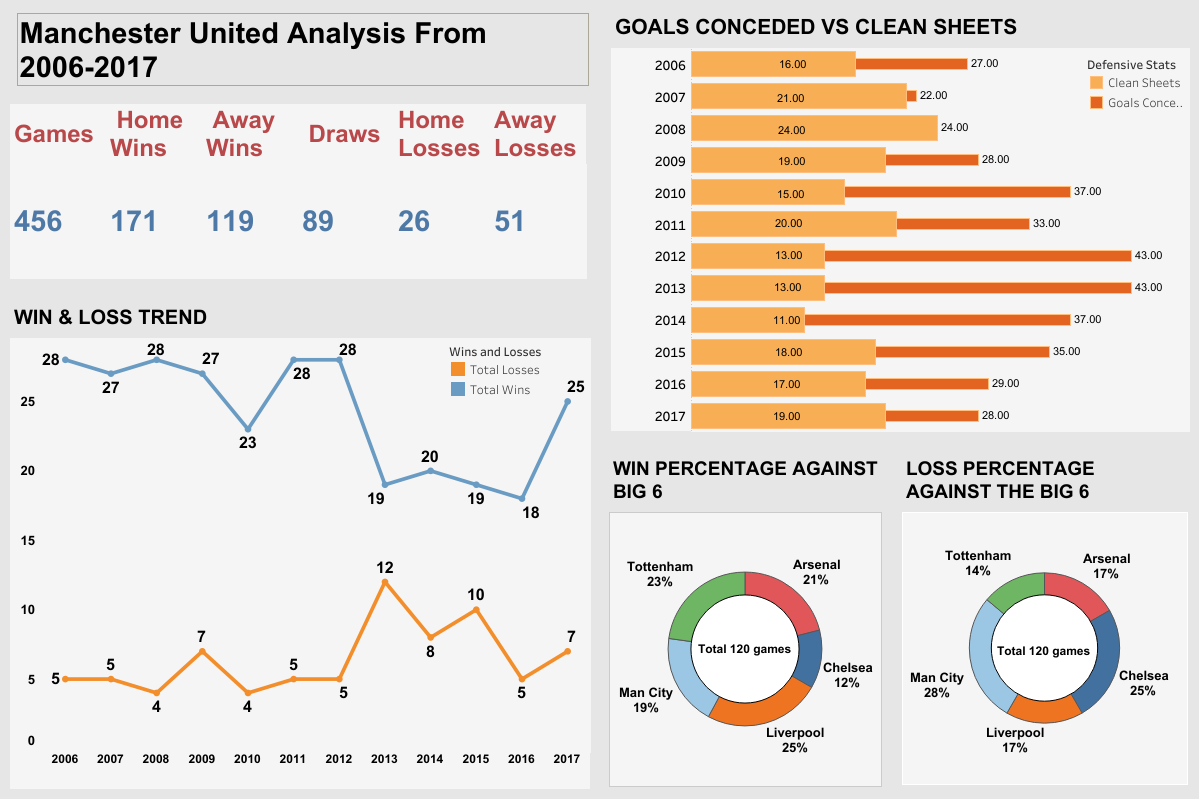

The dashboard page shown, as its layout file describes it:
{"tool":"tableau","page":{"name":"Dashboard 1","canvas":[1200,800],"ordinal":0},"visuals":[{"type":"worksheet","title":"Sheet 20","mark":"Bar","rows":["season"],"cols":["goals_conceded","clean_sheet"],"box":[603,0,594,439]},{"type":"title","box":[9,5,588,89]},{"type":"legend","title":"Sheet 20","param":"[federated.0bez2ue1wrdpr91e64y4817orz79].[:Measure Names]","box":[1082,49,109,75]},{"type":"worksheet","title":"Sheet 21","mark":"Automatic","box":[2,96,596,190]},{"type":"worksheet","title":"Sheet 17","mark":"Line","rows":["total_losses","total_wins"],"cols":["season"],"box":[2,290,596,507]},{"type":"legend","title":"Sheet 17","param":"[federated.0556o3t0ms0t0u19hi1fj1rkdobx].[:Measure Names]","box":[448,340,98,63]},{"type":"worksheet","title":"Sheet 18","mark":"Pie","rows":["Calculation_880735270030708736","Calculation_880735270030708736"],"box":[601,443,289,352]},{"type":"worksheet","title":"Sheet 19","mark":"Pie","rows":["Calculation_880735270030708736","Calculation_880735270030708736"],"box":[894,443,302,350]}]}

Visuals, with their boxes in screenshot pixels (x1, y1, x2, y2), scaled from the page's 1200x800 canvas onto the 1199x799 screenshot:
"Sheet 20" worksheet (Bar marks): locate(602, 0, 1196, 438)
title: locate(9, 5, 597, 94)
"Sheet 20" legend: locate(1081, 49, 1190, 124)
"Sheet 21" worksheet: locate(2, 96, 598, 286)
"Sheet 17" worksheet (Line marks): locate(2, 290, 598, 796)
"Sheet 17" legend: locate(448, 340, 546, 402)
"Sheet 18" worksheet (Pie marks): locate(600, 442, 889, 794)
"Sheet 19" worksheet (Pie marks): locate(893, 442, 1195, 792)
